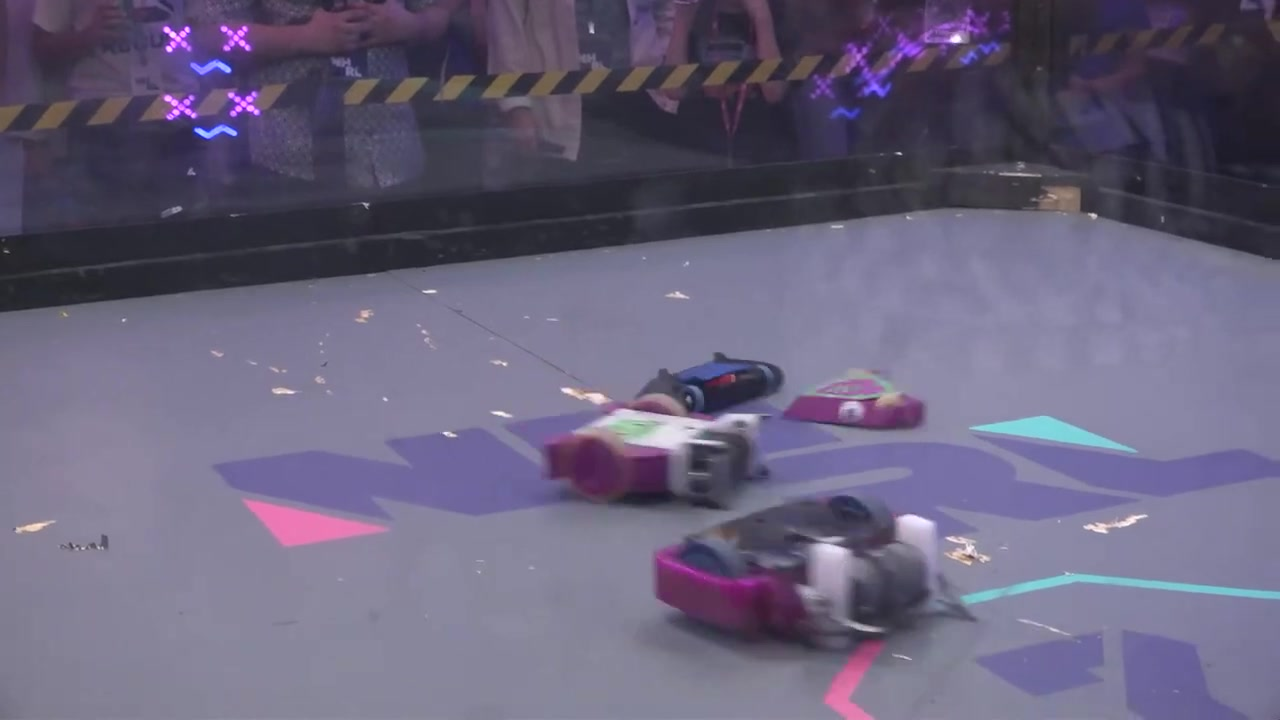combatbot: (651, 493, 939, 648), (541, 400, 771, 512)
minibot: (635, 352, 781, 416), (784, 369, 926, 433)
